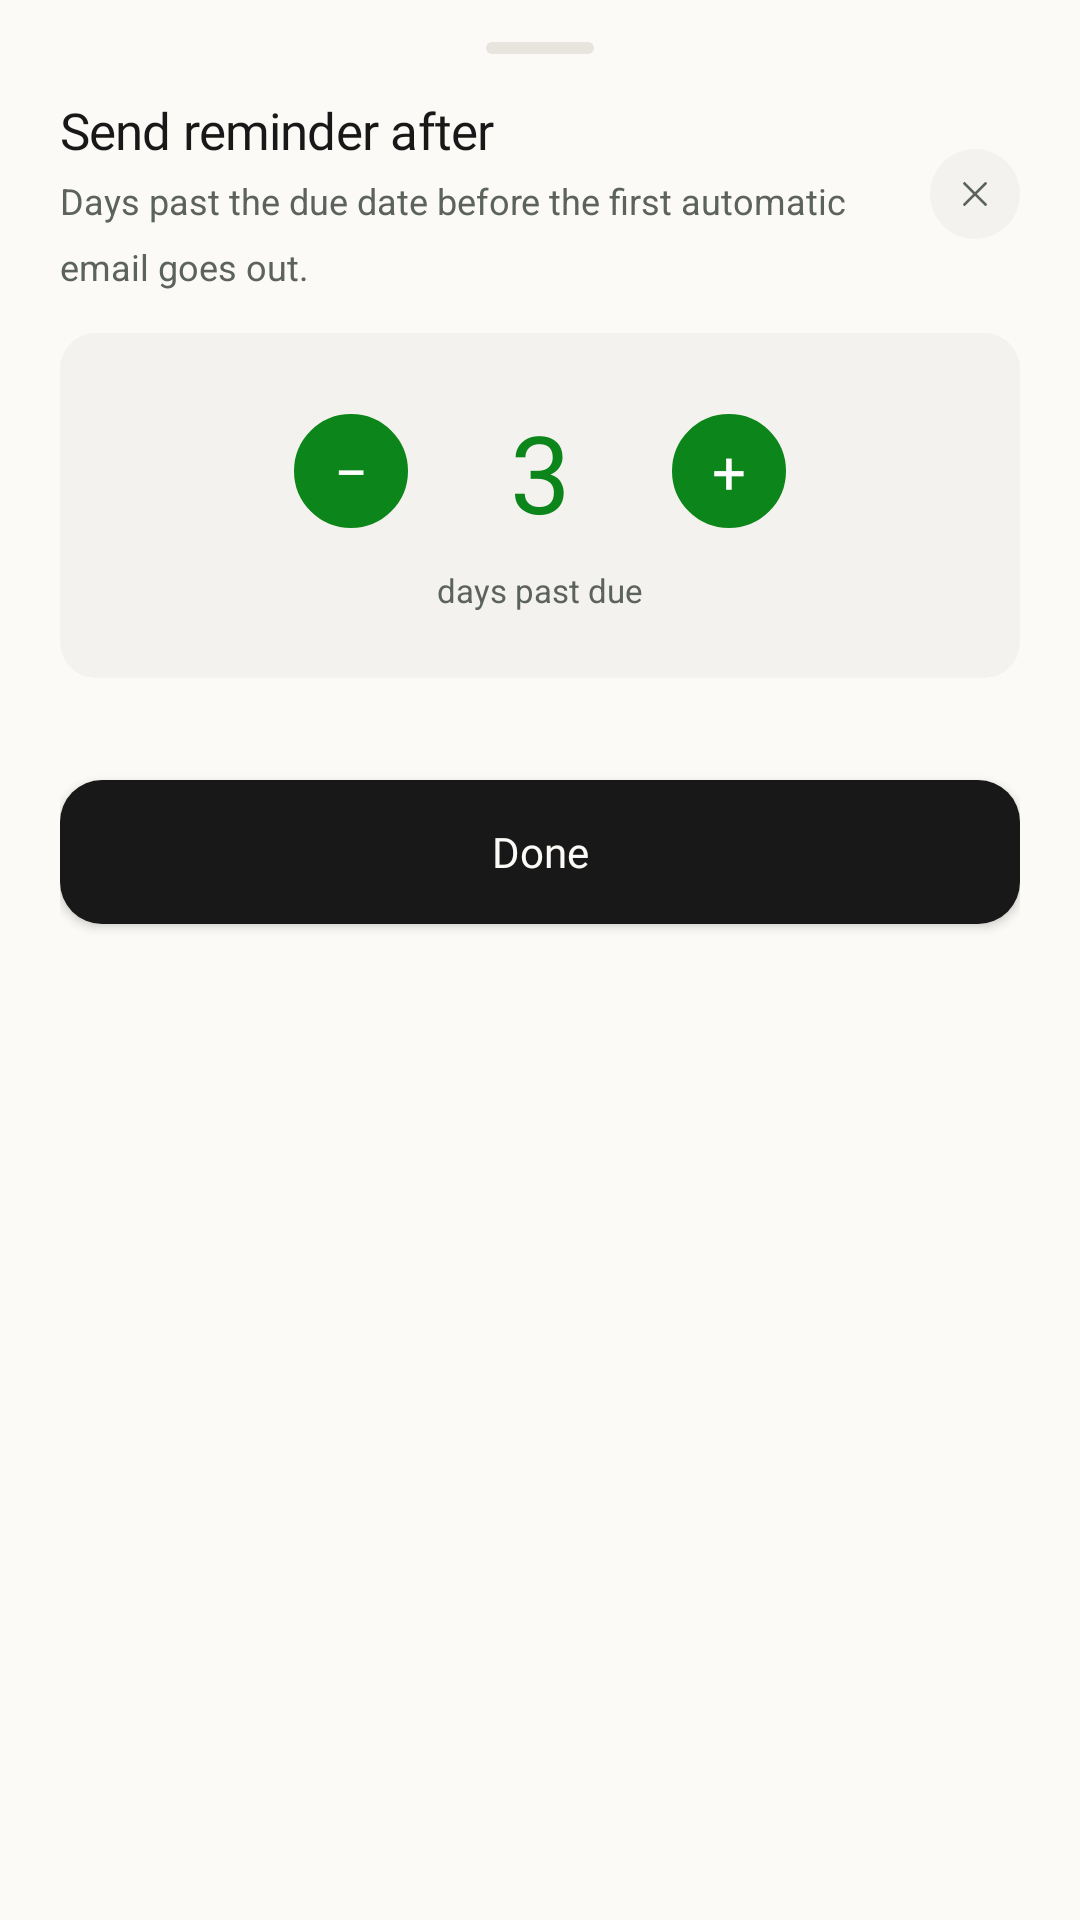

Where to tap for icons on this 1080 × 1920 app screen, as (x,y):
close: (975,194)
